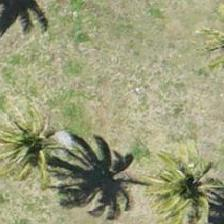coconut_tree: (0, 109, 79, 199), (168, 155, 223, 223)
